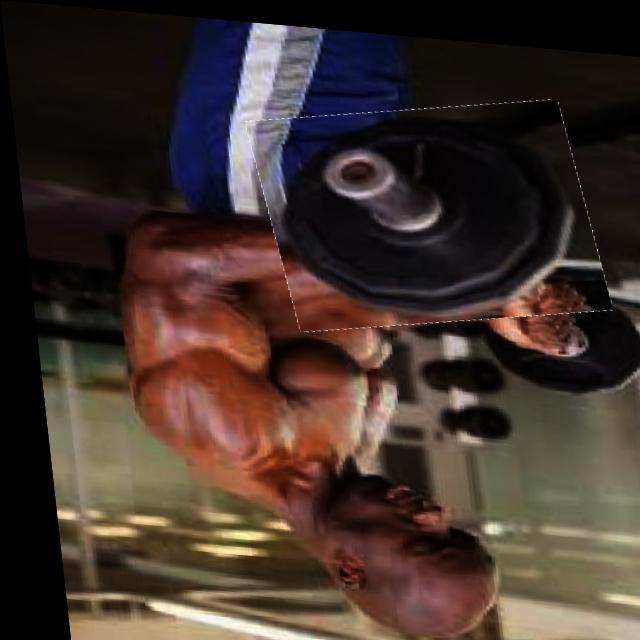barbell: (248, 80, 604, 337)
